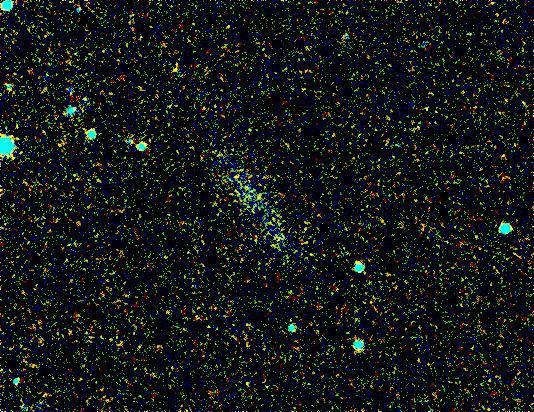star: (163, 54, 193, 84)
